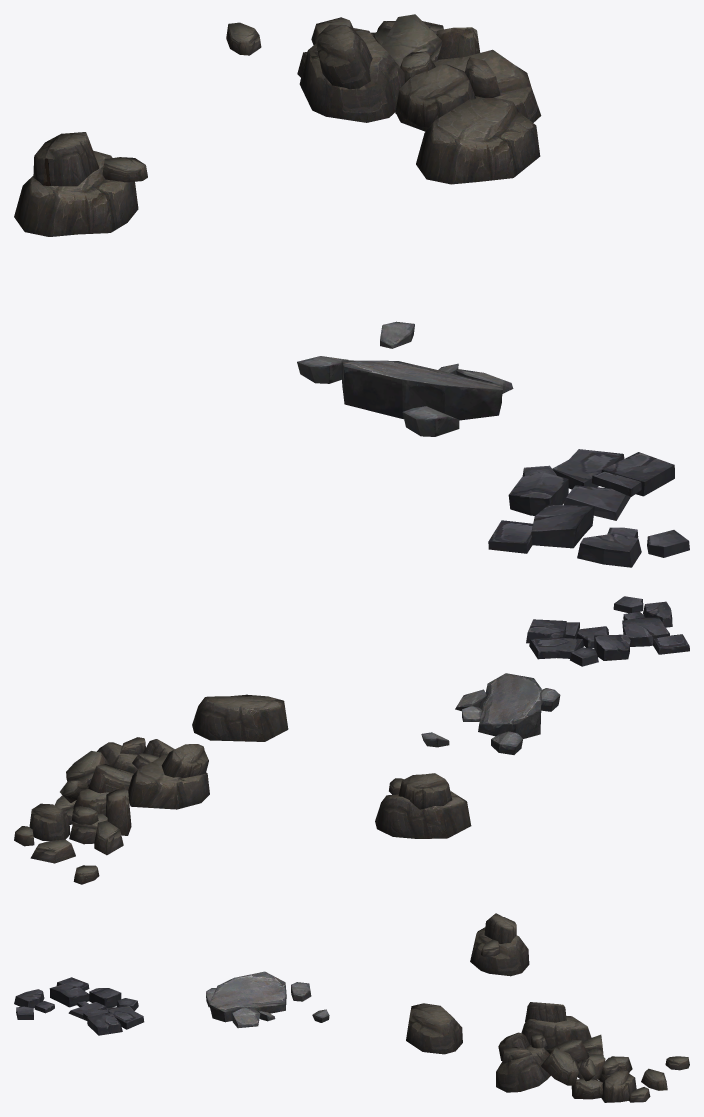
The model's file is 2_KJ_XiaoSuiShiTou_01.FBX.
3 renders of one model, top to bottom at view 1: azimuth 30°, elevation 25°; view 2: azimuth 150°, elevation 25°; view 3: azimuth 270°, elevation 25°, orthographic. The views are drawn at different scales.
Parts seen in each view (by area): view 1: 2_KJ_XiaoSuiShiTou_02, 2_KJ_XiaoSuiShiTou_03, 2_KJ_XiaoSuiShiTou_01; view 2: 2_KJ_XiaoSuiShiTou_02, 2_KJ_XiaoSuiShiTou_03, 2_KJ_XiaoSuiShiTou_01; view 3: 2_KJ_XiaoSuiShiTou_02, 2_KJ_XiaoSuiShiTou_03, 2_KJ_XiaoSuiShiTou_01.
Boxes of the visible parts, bbox=[...] form: 2_KJ_XiaoSuiShiTou_02: bbox=[14, 14, 541, 236]; 2_KJ_XiaoSuiShiTou_03: bbox=[488, 449, 689, 567]; 2_KJ_XiaoSuiShiTou_01: bbox=[297, 321, 513, 436]; 2_KJ_XiaoSuiShiTou_02: bbox=[14, 694, 471, 884]; 2_KJ_XiaoSuiShiTou_03: bbox=[526, 596, 689, 666]; 2_KJ_XiaoSuiShiTou_01: bbox=[421, 673, 560, 754]; 2_KJ_XiaoSuiShiTou_02: bbox=[406, 913, 689, 1102]; 2_KJ_XiaoSuiShiTou_03: bbox=[14, 977, 144, 1035]; 2_KJ_XiaoSuiShiTou_01: bbox=[206, 971, 329, 1028].
Bounding box in the file's own units: 633 × 130 × 1305.
